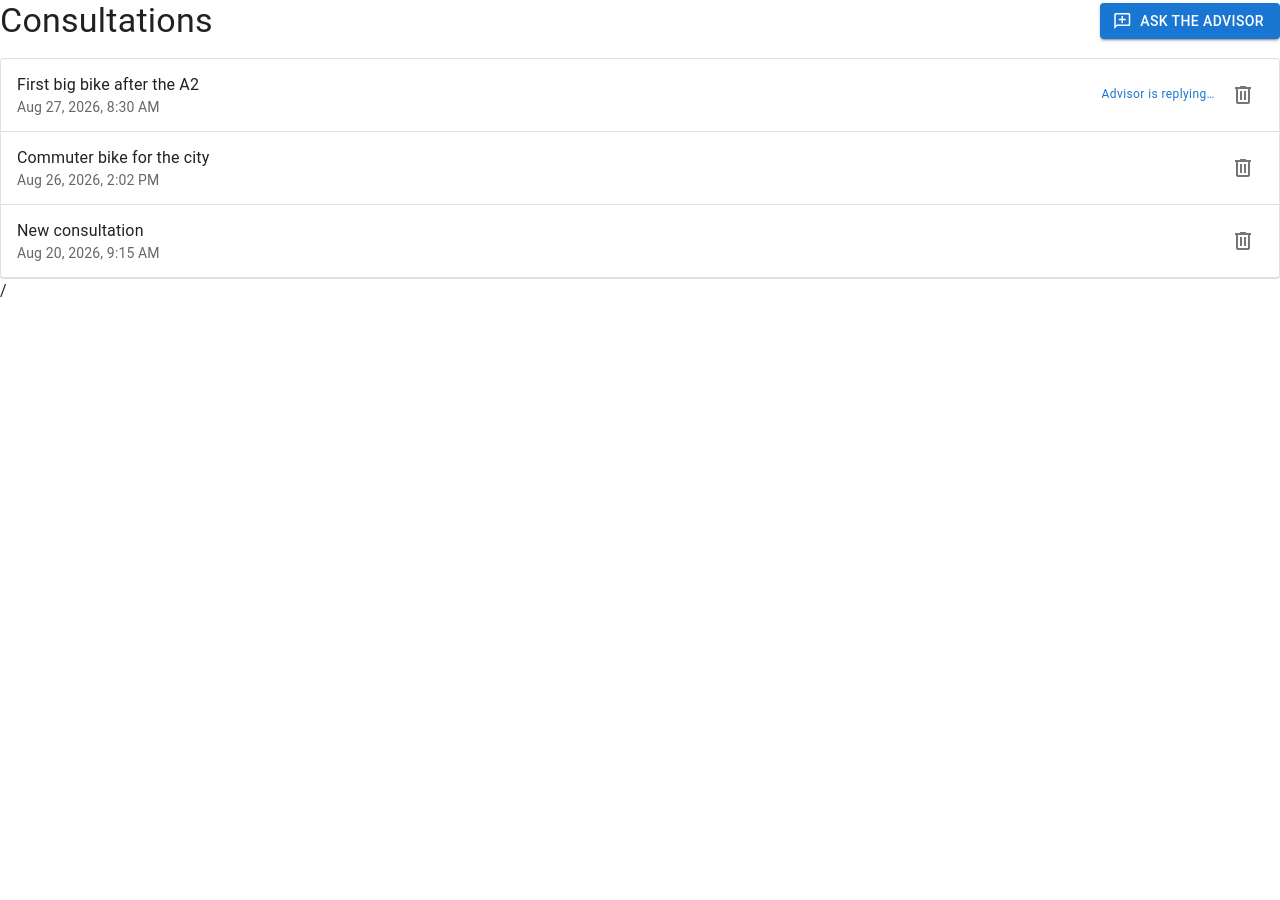
it: ConsultationsRoute › deletes a consultation after the confirmation dialog
Click the button named "Delete consultation" in the row of "Commuter bike for the city": (1243, 168) [1223,148,1263,188]
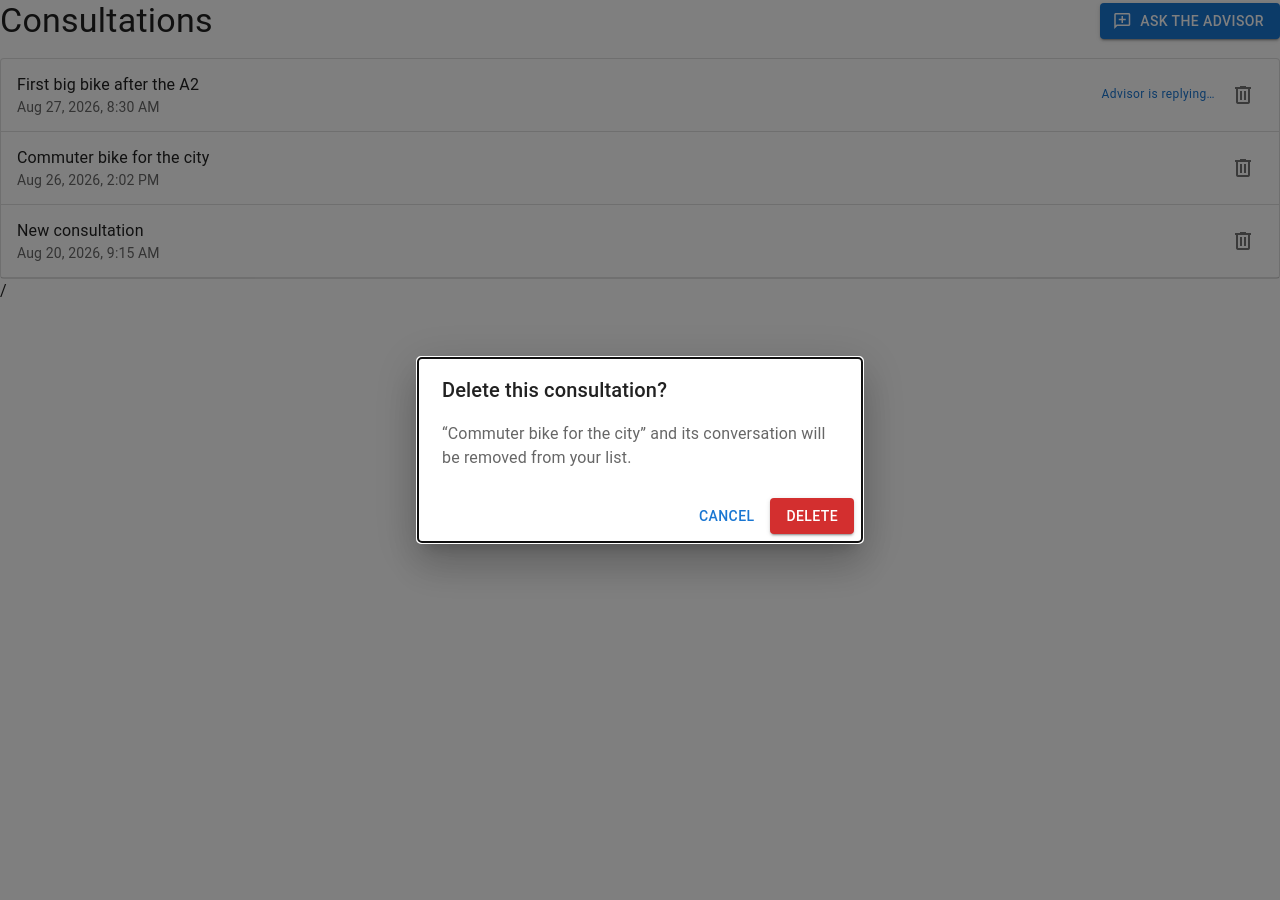
Now the text "“Commuter bike for the city” and its conversation" is shown, box [442,424,826,467]
Click the button "Delete": (812, 516) [770,498,854,534]
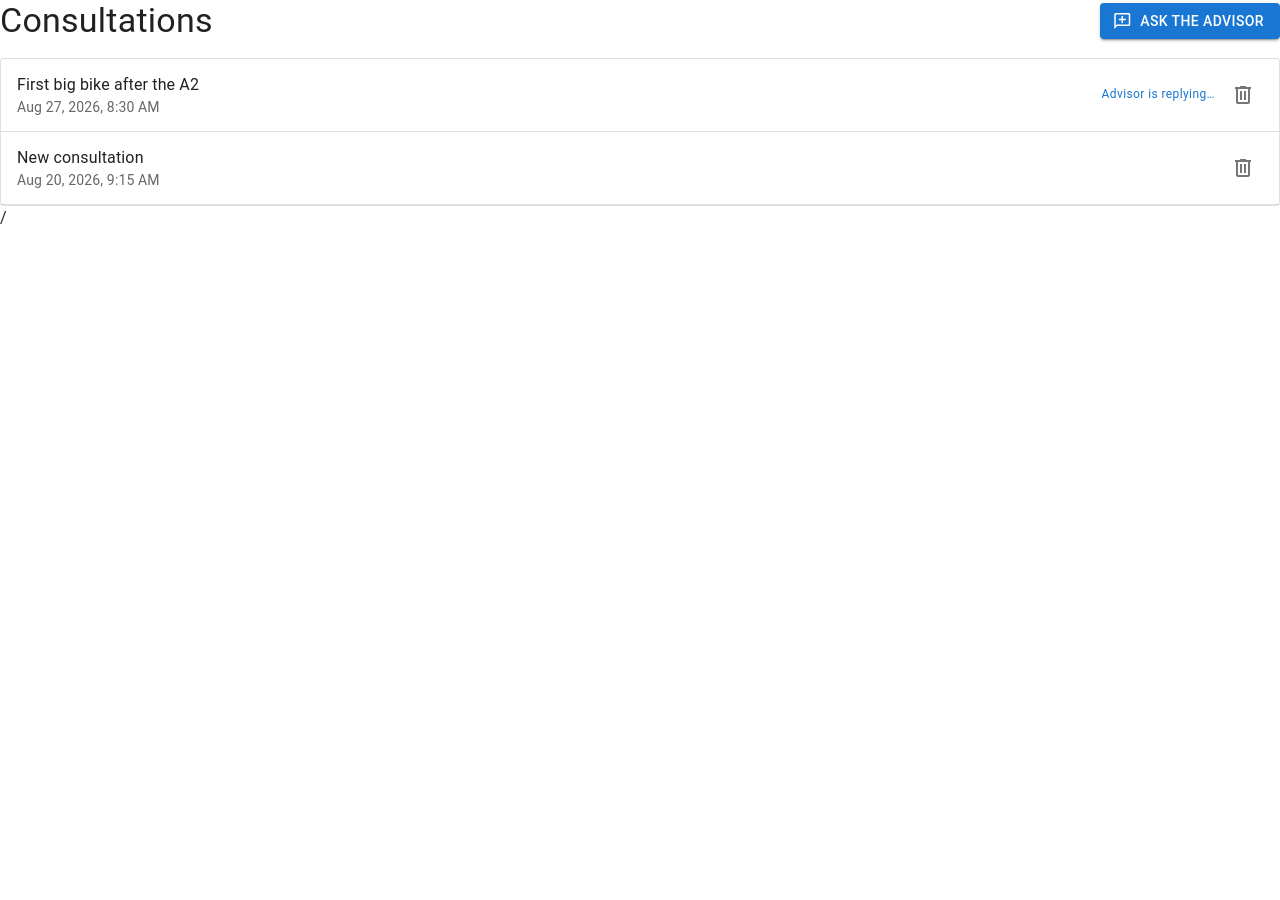
Now the dialog is gone
Now the link "Commuter bike for the city" is gone
Now the number of list items is 2, box [1,59,1279,132]; [1,132,1279,205]
